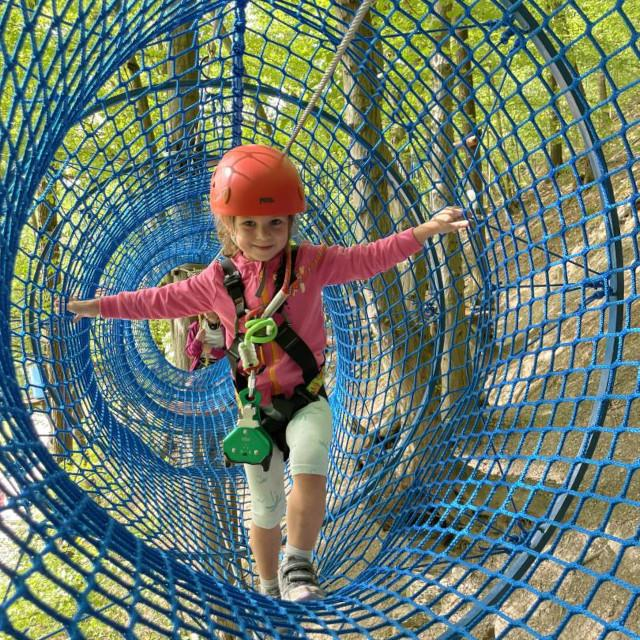kobieta: (61, 139, 462, 602)
